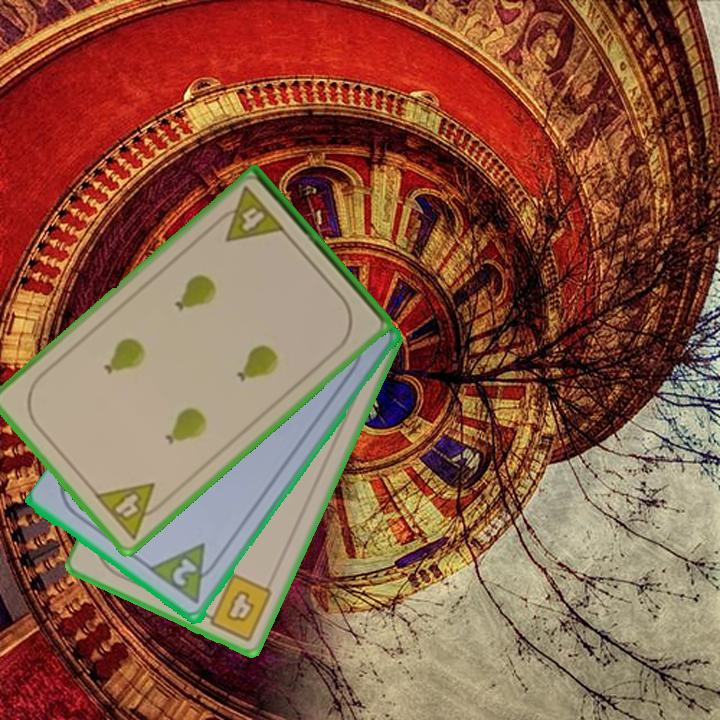2p: (168, 555, 200, 590)
4b: (197, 570, 276, 644)
4p: (91, 479, 171, 543), (210, 183, 288, 246)
